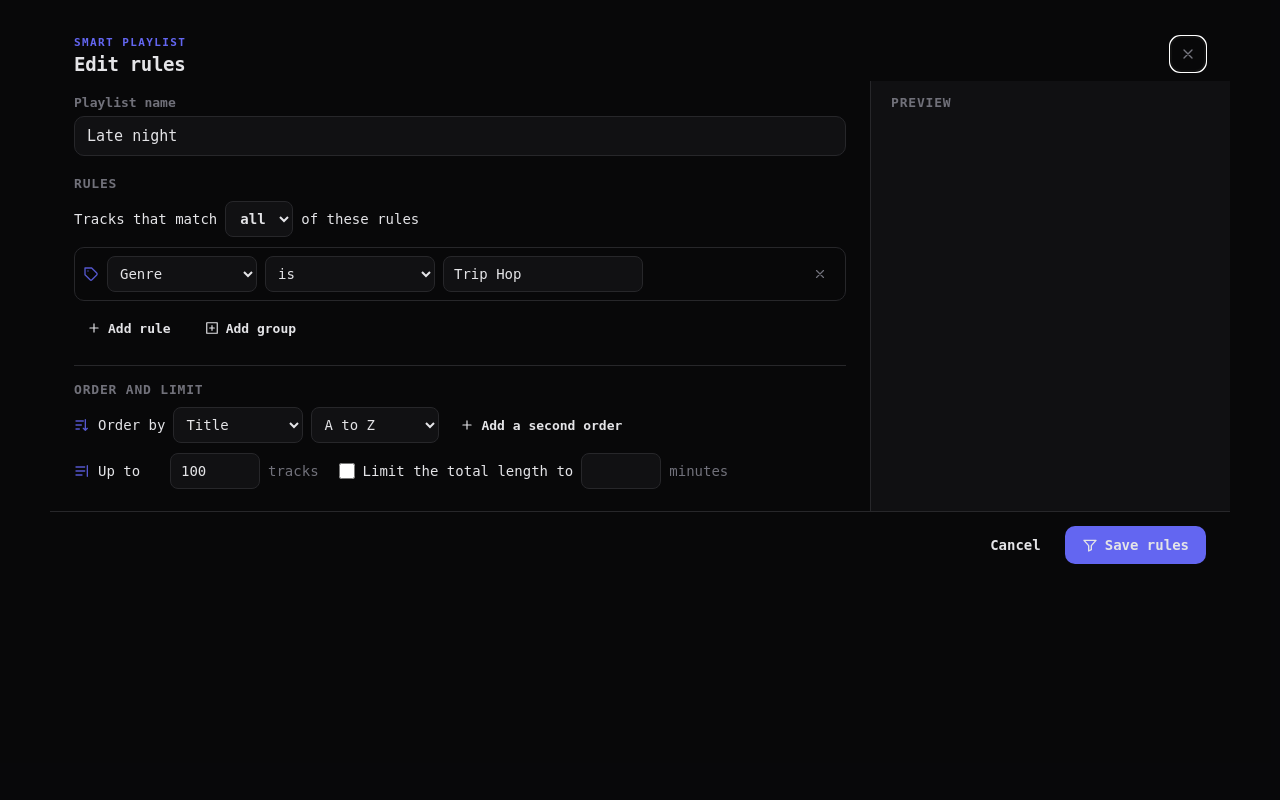
SmartPlaylistEditor › loads the newer rules after an edit conflict
Expected: the search field named "genre" is shown, [443, 256, 643, 292]
Click the button "Save rules": coordinates (1135, 545) [1065, 526, 1206, 564]
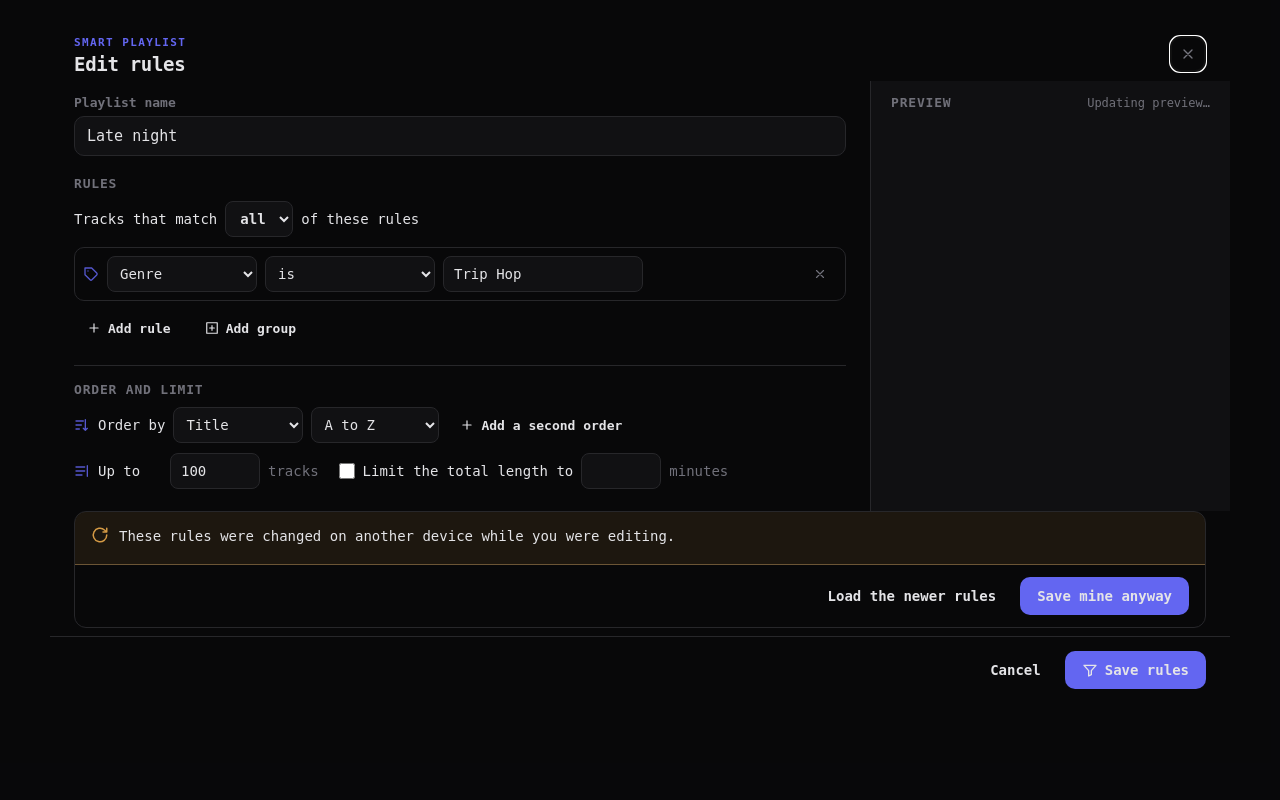
Click the button "Load the newer rules": coordinates (912, 596) [814, 577, 1010, 615]
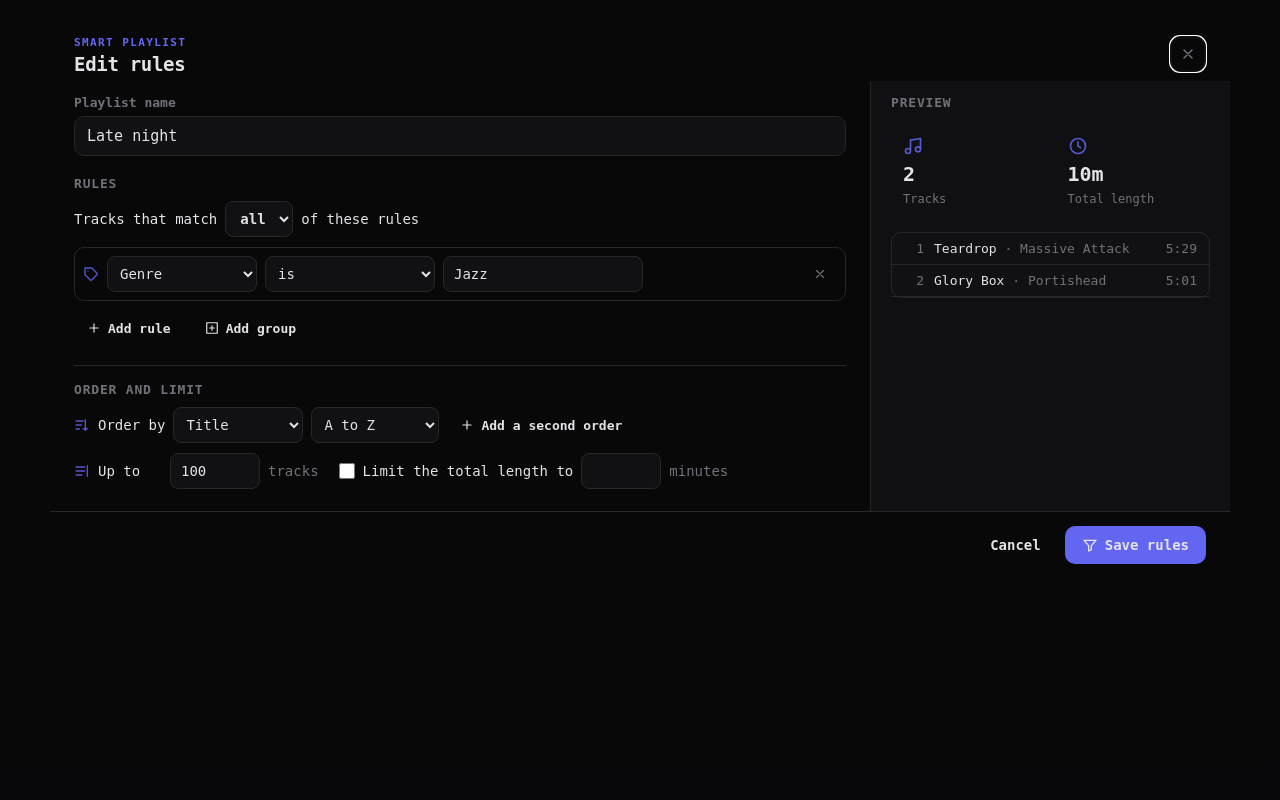
Now the search field named "genre" holds "Jazz", box [443, 256, 643, 292]
Now the text "These rules were changed on another device while you were editing." is gone
